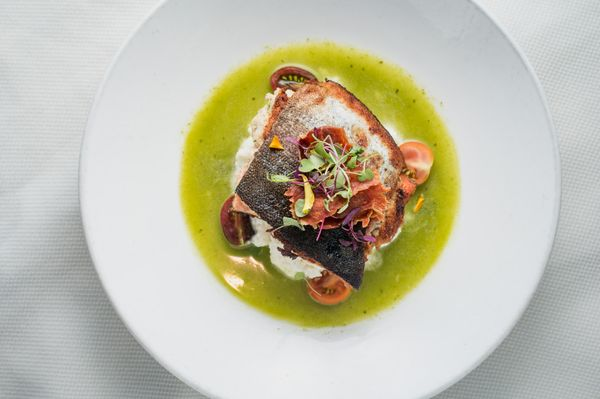curry: (4, 2, 581, 394)
